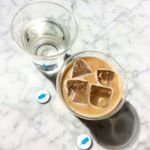cups: (54, 48, 130, 121), (8, 1, 81, 76)
